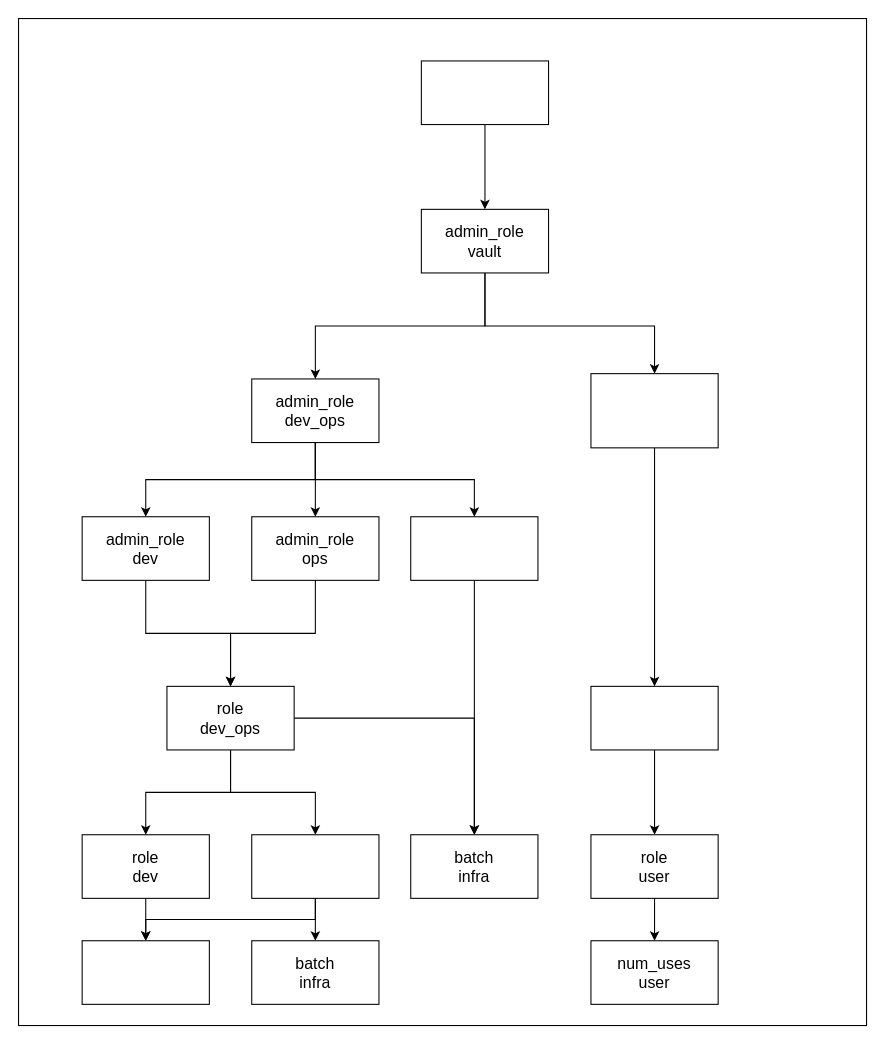
Image size: 885x1044. Some labels were removed from this diagram. Each missing label, with the centre of its shape:
"admin_role biz" goes at point 654,410.
"num_uses infra" goes at point 145,972.
"periodic infra" goes at point 474,548.
"role biz" goes at point 654,717.
"role ops" goes at point 315,866.
"root_token" goes at point 484,92.
